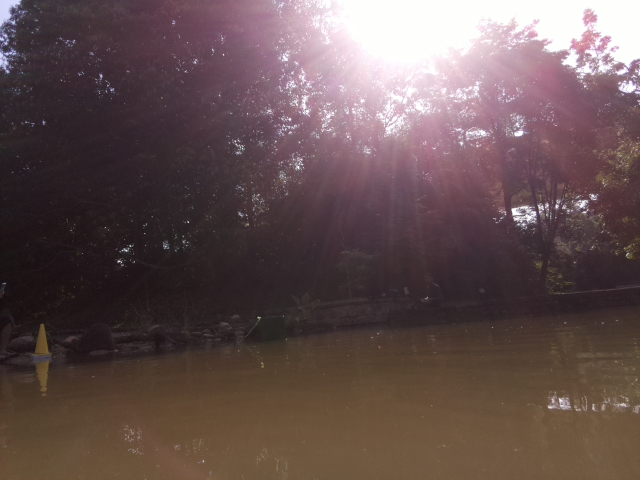checkpoint: (29, 320, 55, 364)
obstacle: (253, 314, 287, 344)
